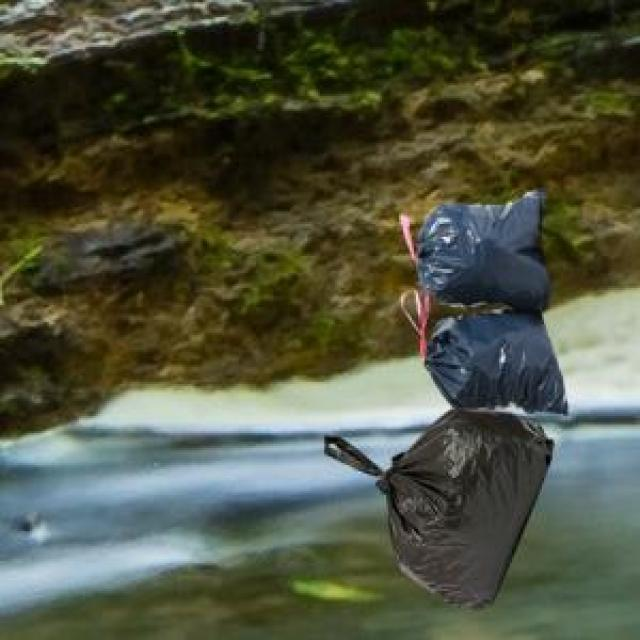waste: (325, 190, 568, 606)
